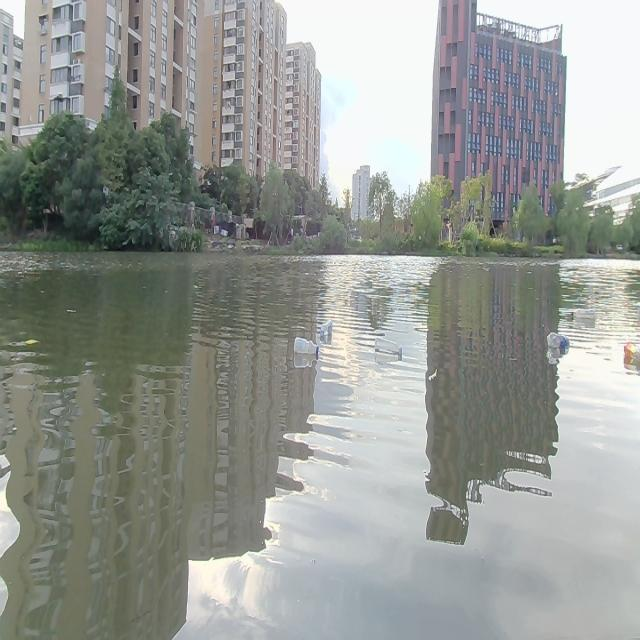bottle: (374, 336, 404, 362), (292, 335, 318, 359), (547, 329, 571, 355), (568, 305, 595, 325), (624, 339, 640, 361), (319, 320, 333, 340)
